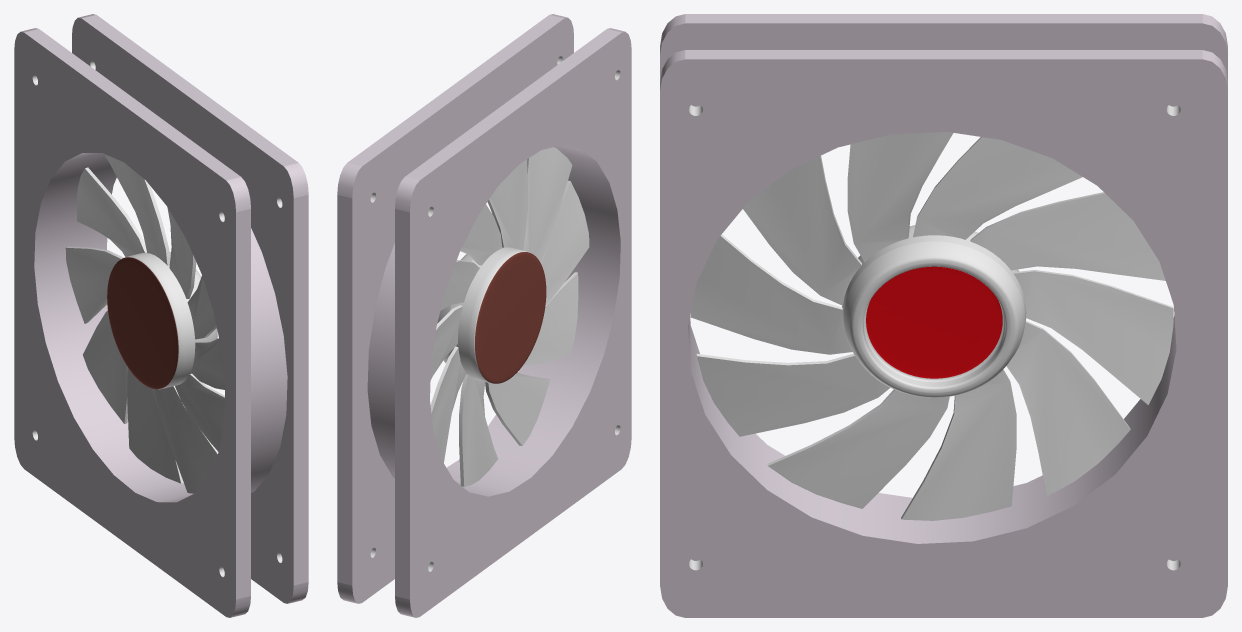
The model's file is Fan Cooler.fbx.
3 views of the same model, side by side, from view 1: azimuth 30°, elevation 25°; view 2: azimuth 150°, elevation 25°; view 3: azimuth 270°, elevation 25° (orthographic). The views are drawn at different scales.
Parts seen in each view (by area): view 1: Plane.029; view 2: Plane.029; view 3: Plane.029.
Part boxes in pixels (box(x1,y1,x2,y2)): Plane.029: box(14, 14, 308, 617); Plane.029: box(337, 14, 631, 617); Plane.029: box(660, 14, 1227, 617).
Bounding box in the file's own units: 12.91 × 74.16 × 68.31.
